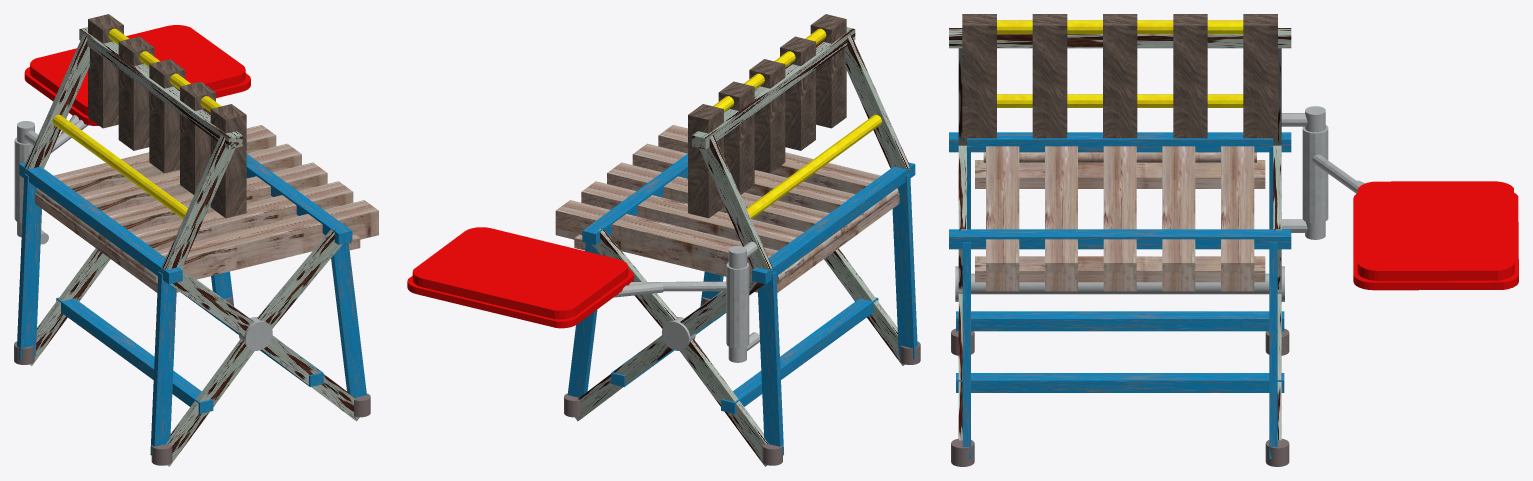
The model's file is Chair_Folding_chair__0469.glb.
3 views of the same model, side by side, from view 1: azimuth 30°, elevation 25°; view 2: azimuth 150°, elevation 25°; view 3: azimuth 270°, elevation 25° (orthographic). The views are drawn at different scales.
Parts seen in each view (by area): view 1: seat_pan::seat_slat_0, tablet_arm::tablet_board, seat_pan::seat_slat_1, rear_leg_frame::seat_hinge_bar, rear_leg_frame::rear_triangle_brace_l_seg0, rear_leg_frame::rear_triangle_brace_r_seg0, seat_pan::seat_slat_2, rear_leg_frame::rear_cross_brace, front_leg_frame::front_triangle_brace_l_seg0, seat_pan::seat_slat_3, rear_leg_frame::back_slat_3, rear_leg_frame::back_slat_2 (+22 smaller); view 2: tablet_arm::tablet_board, seat_pan::seat_slat_4, seat_pan::seat_slat_3, rear_leg_frame::seat_hinge_bar, rear_leg_frame::rear_triangle_brace_r_seg0, rear_leg_frame::rear_triangle_brace_l_seg0, tablet_arm::tablet_hinge_sleeve, seat_pan::seat_slat_2, rear_leg_frame::rear_cross_brace, seat_pan::seat_slat_1, rear_leg_frame::back_slat_2, rear_leg_frame::back_slat_1 (+20 smaller); view 3: tablet_arm::tablet_board, rear_leg_frame::rear_cross_brace, front_leg_frame::front_cross_brace, front_leg_frame::seat_front_rail, rear_leg_frame::seat_hinge_bar, seat_pan::seat_slat_0, seat_pan::seat_slat_2, seat_pan::seat_slat_3, seat_pan::seat_slat_4, seat_pan::seat_slat_1, rear_leg_frame::back_slat_1, rear_leg_frame::back_slat_0 (+19 smaller).
Boxes of the visible parts, <box> form: seat_pan::seat_slat_0: <box>156,200,378,279</box>; tablet_arm::tablet_board: <box>24,25,250,125</box>; seat_pan::seat_slat_1: <box>131,181,353,250</box>; rear_leg_frame::seat_hinge_bar: <box>19,162,182,284</box>; rear_leg_frame::rear_triangle_brace_l_seg0: <box>150,271,176,455</box>; rear_leg_frame::rear_triangle_brace_r_seg0: <box>17,173,41,359</box>; seat_pan::seat_slat_2: <box>105,162,327,231</box>; rear_leg_frame::rear_cross_brace: <box>56,297,213,413</box>; front_leg_frame::front_triangle_brace_l_seg0: <box>331,242,366,397</box>; seat_pan::seat_slat_3: <box>79,143,301,212</box>; rear_leg_frame::back_slat_3: <box>118,36,154,150</box>; rear_leg_frame::back_slat_2: <box>149,59,185,173</box>; tablet_arm::tablet_board: <box>407,227,633,328</box>; seat_pan::seat_slat_4: <box>555,200,778,276</box>; seat_pan::seat_slat_3: <box>581,181,803,250</box>; rear_leg_frame::seat_hinge_bar: <box>752,162,915,284</box>; rear_leg_frame::rear_triangle_brace_r_seg0: <box>758,271,783,455</box>; rear_leg_frame::rear_triangle_brace_l_seg0: <box>892,173,917,359</box>; tablet_arm::tablet_hinge_sleeve: <box>613,262,749,348</box>; seat_pan::seat_slat_2: <box>607,162,829,231</box>; rear_leg_frame::rear_cross_brace: <box>721,297,878,413</box>; seat_pan::seat_slat_1: <box>632,143,855,212</box>; rear_leg_frame::back_slat_2: <box>749,59,785,173</box>; rear_leg_frame::back_slat_1: <box>780,36,815,150</box>; tablet_arm::tablet_board: <box>1353,181,1518,290</box>; rear_leg_frame::rear_cross_brace: <box>956,311,1284,331</box>; front_leg_frame::front_cross_brace: <box>956,373,1284,392</box>; front_leg_frame::seat_front_rail: <box>949,229,1291,249</box>; rear_leg_frame::seat_hinge_bar: <box>949,132,1291,152</box>; seat_pan::seat_slat_0: <box>986,146,1019,291</box>; seat_pan::seat_slat_2: <box>1103,146,1136,291</box>; seat_pan::seat_slat_3: <box>1162,146,1195,291</box>; seat_pan::seat_slat_4: <box>1221,146,1254,291</box>; seat_pan::seat_slat_1: <box>1045,146,1077,291</box>; rear_leg_frame::back_slat_1: <box>1032,14,1067,138</box>; rear_leg_frame::back_slat_0: <box>962,14,996,138</box>.
Bounding box in the file's own units: 0.527 × 0.6072 × 0.8262.
8 materials, 6 textured.
